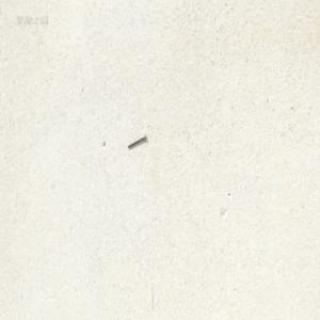Bolttrack_idkeyframe: (126, 132, 144, 148)
